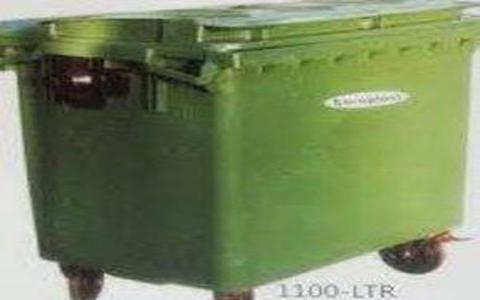Proper garbage: (2, 1, 480, 298)
